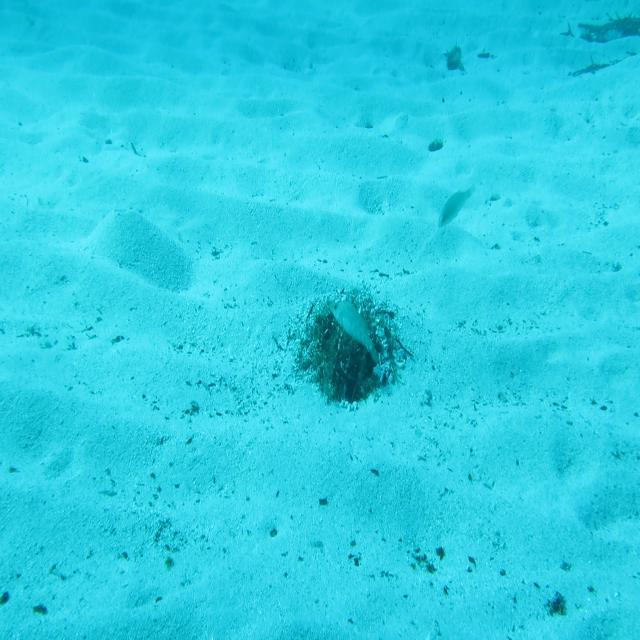ROLL: (330, 298, 383, 367)
female: (437, 180, 482, 233)
nest: (297, 287, 405, 409)
